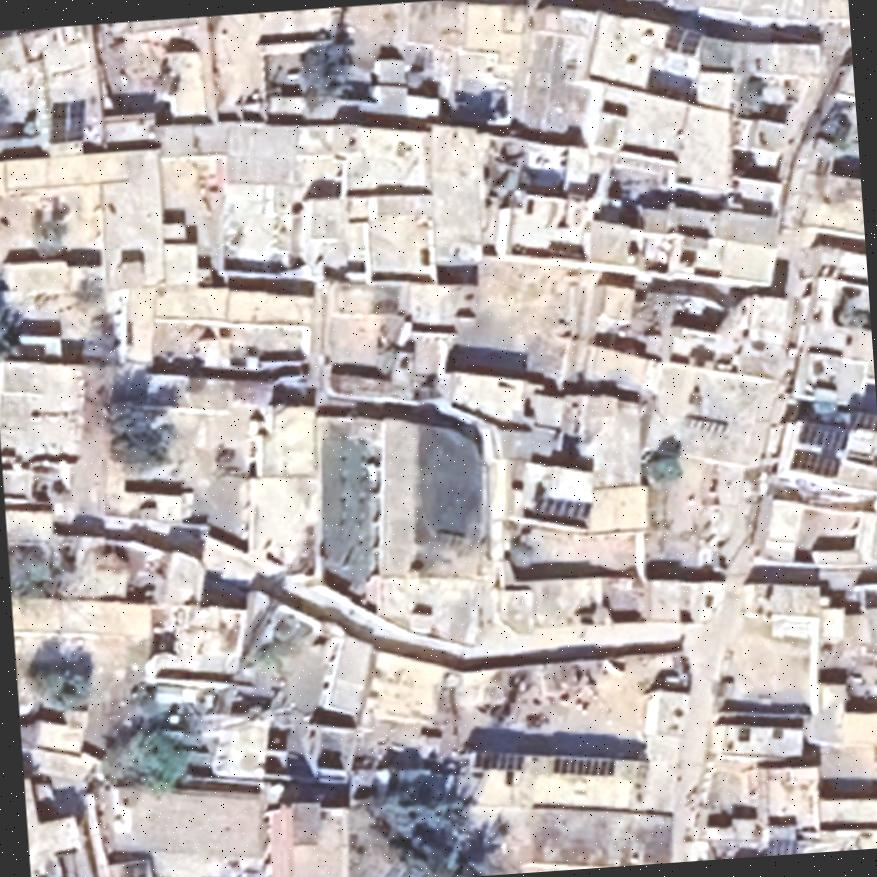Solarpanel: (777, 397, 877, 484), (520, 479, 600, 532), (462, 738, 533, 782), (544, 744, 622, 784), (42, 93, 89, 145), (659, 19, 705, 56)
